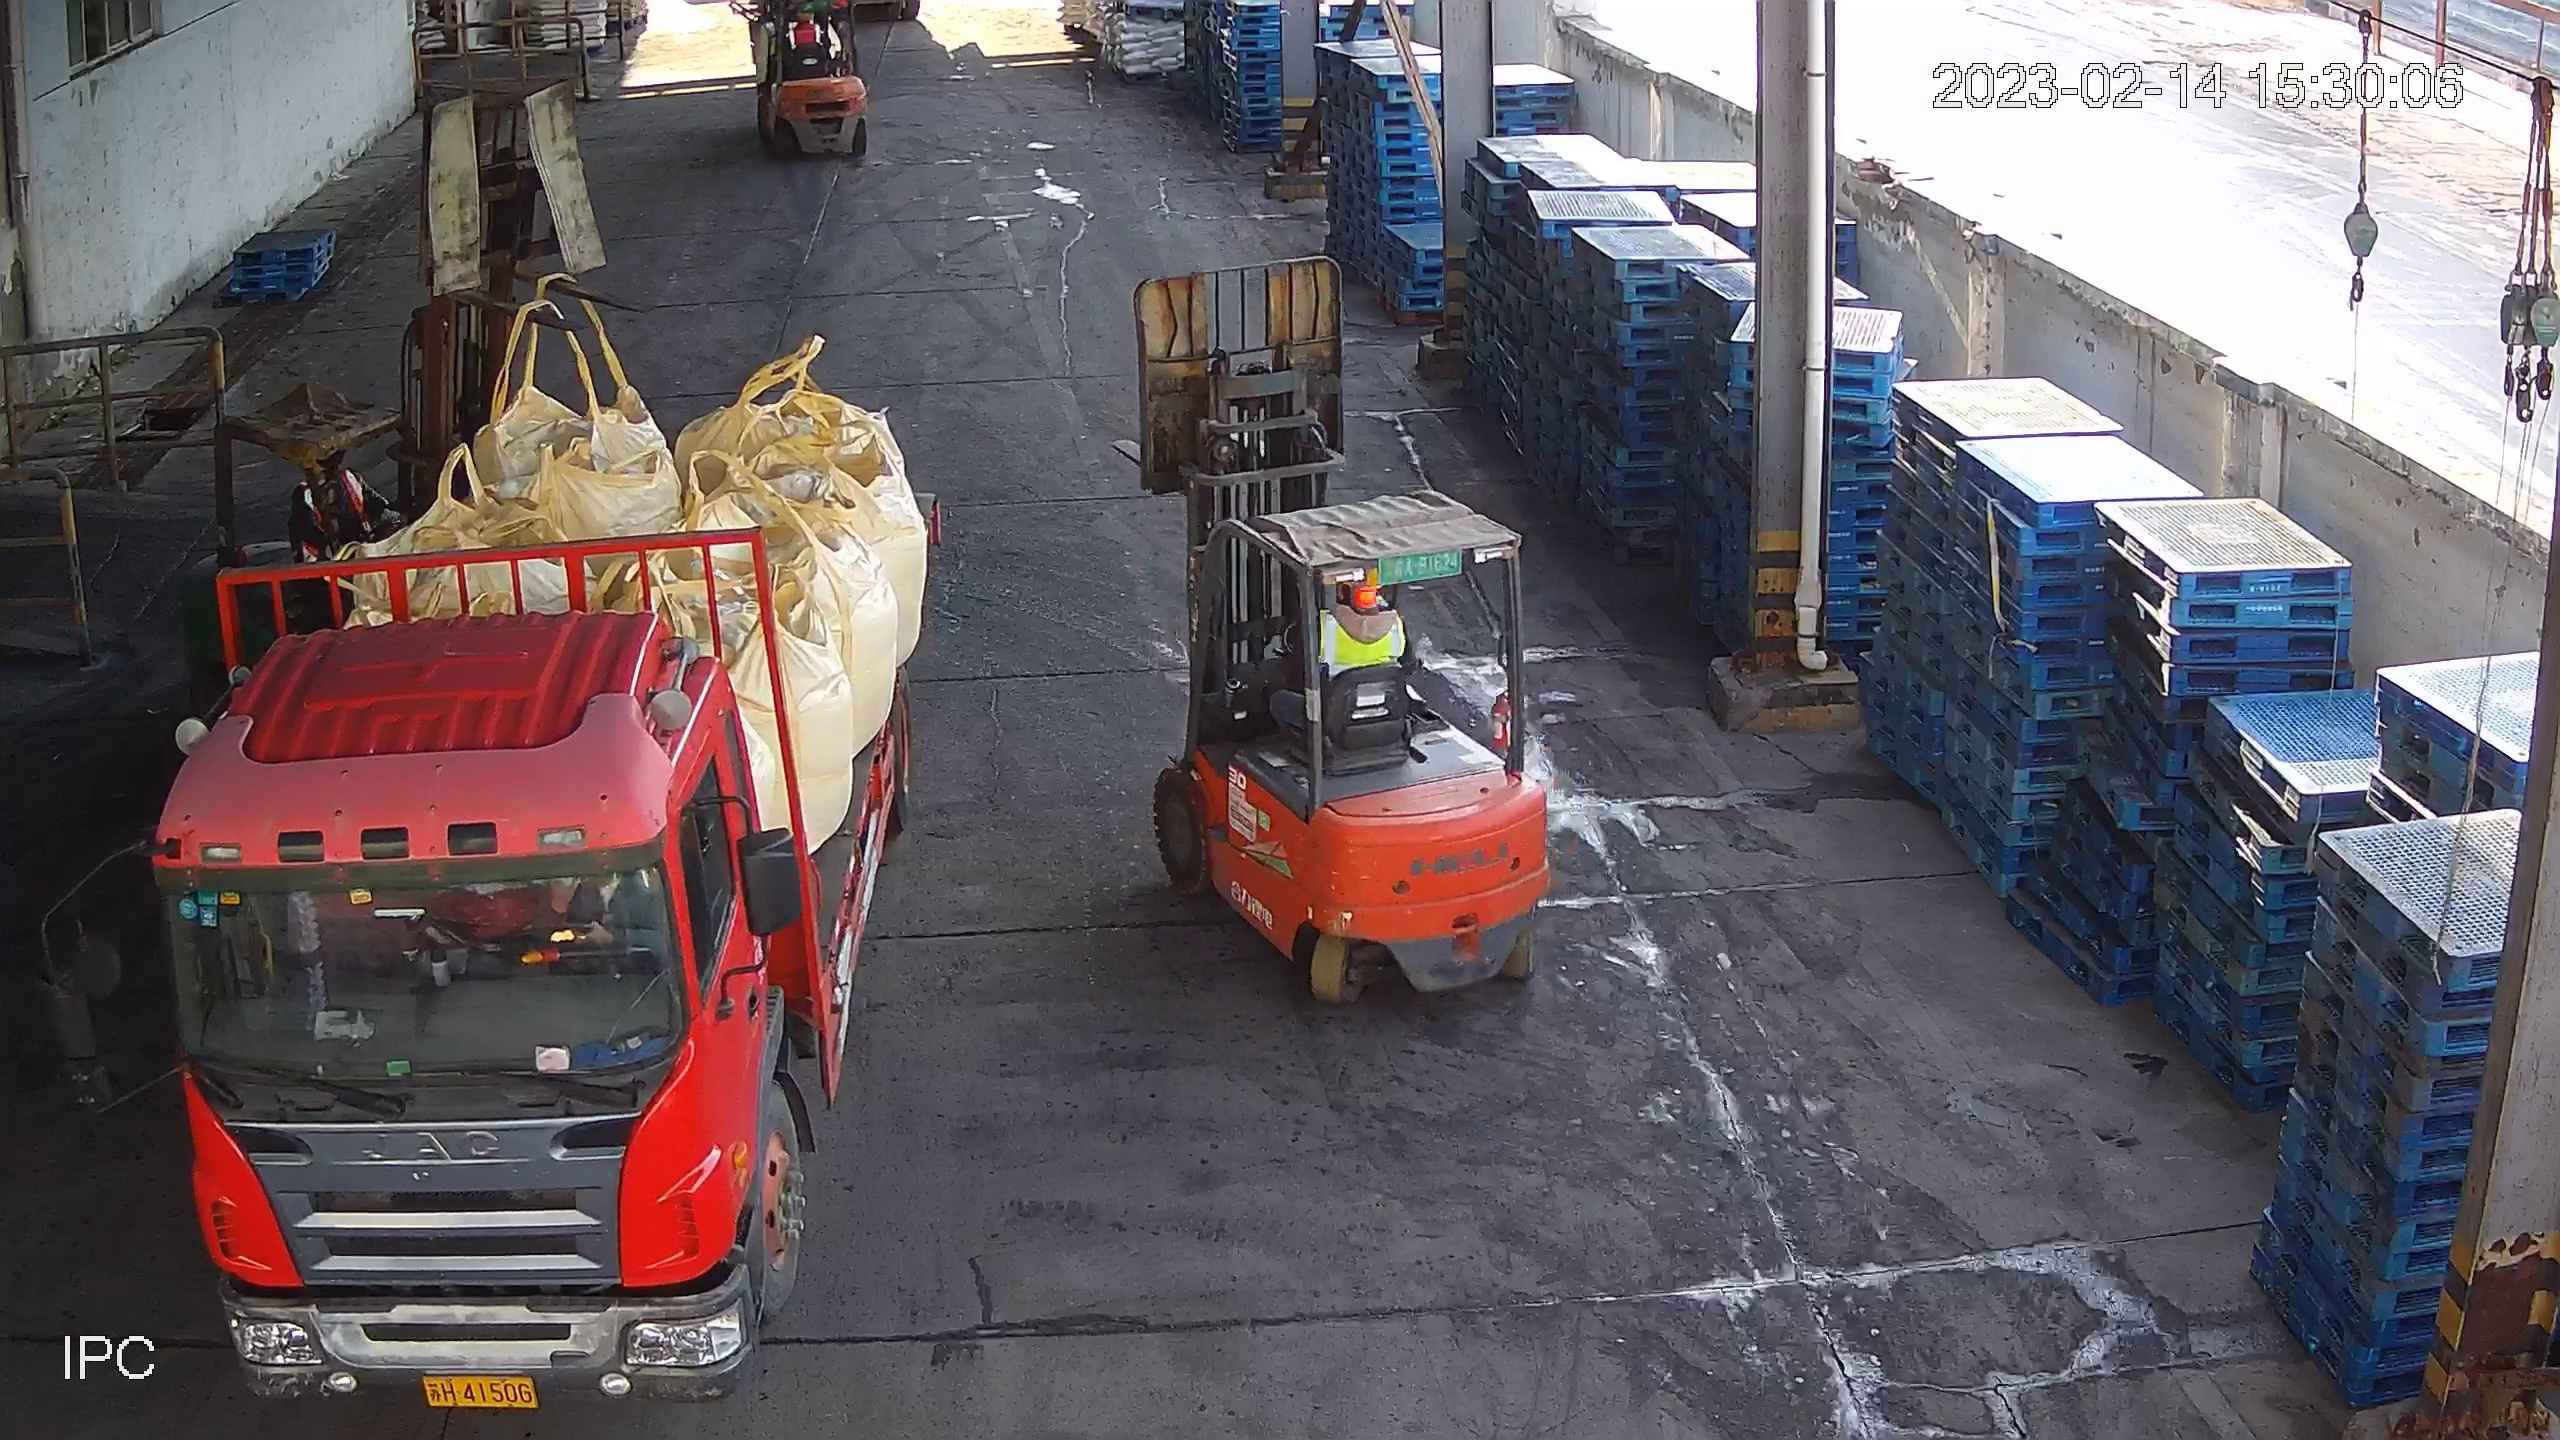truck: (32, 489, 942, 1407)
